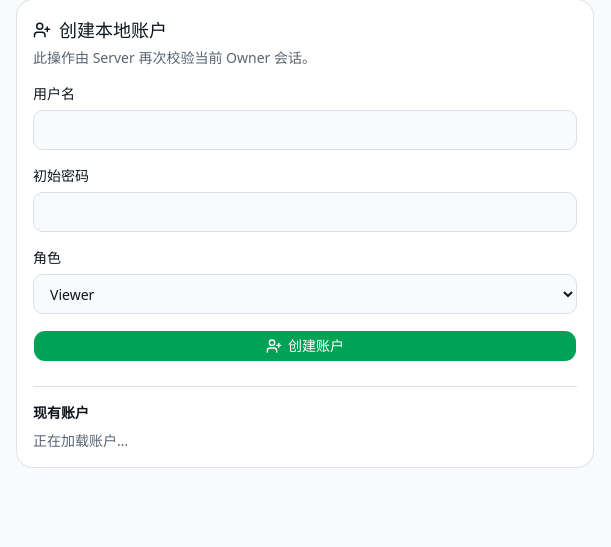
OwnerUserManagement › reports a duplicate account without exposing submitted credentials
Type "viewer-a" into the field labelled "用户名".
click(305, 130); type("viewer-a")  # box [33,110,577,150]
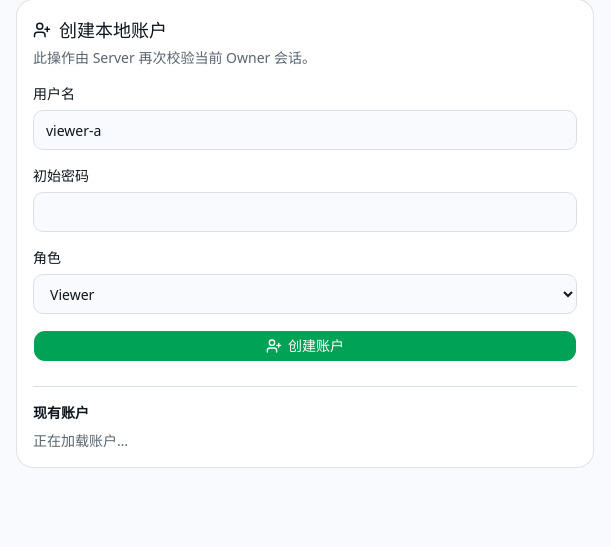
Type "initial-secret" into the password field labelled "初始密码".
click(305, 212); type("initial-secret")  # box [33,192,577,232]
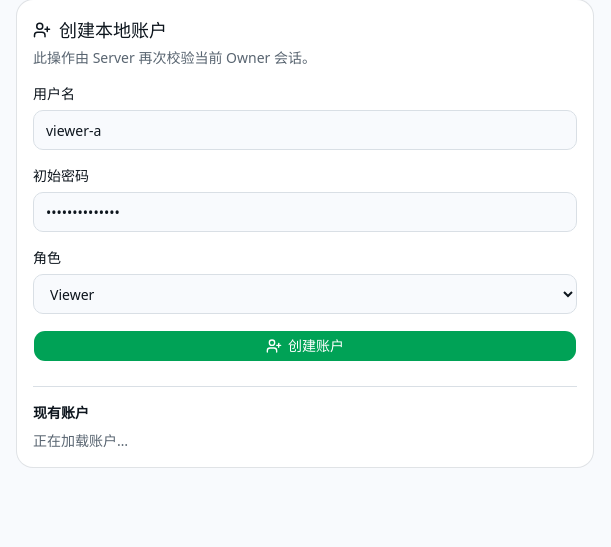
Click the button "创建账户".
click(305, 346)  # box [33,330,577,362]
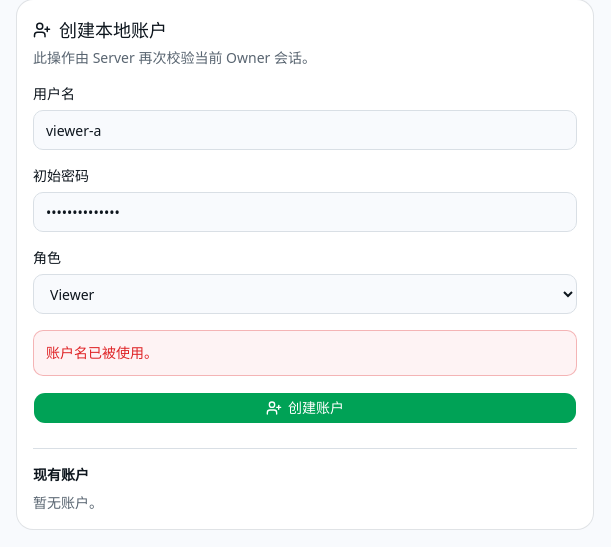
Now the message reads "账户名已被使用。", box [46,343,158,362]
